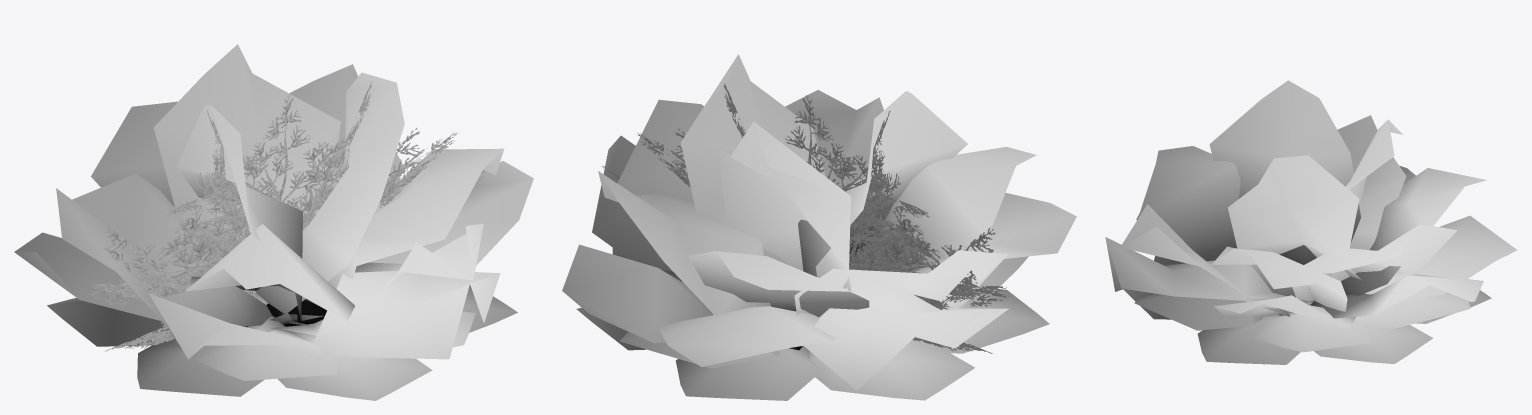
The model's file is Juniper.fbx.
3 renders of one model, left to right at view 1: azimuth 30°, elevation 25°; view 2: azimuth 150°, elevation 25°; view 3: azimuth 270°, elevation 25°, orthographic. The views are drawn at different scales.
Visible parts, largest first — view 1: Juniper_LOD0, Juniper_Billboard; view 2: Juniper_LOD0, Juniper_Billboard; view 3: Juniper_LOD0.
Part boxes in pixels (left/top/right/bottom): Juniper_LOD0: left=14, top=44, right=533, bottom=400; Juniper_Billboard: left=88, top=81, right=485, bottom=351; Juniper_LOD0: left=562, top=54, right=1076, bottom=400; Juniper_Billboard: left=602, top=83, right=1010, bottom=353; Juniper_LOD0: left=1105, top=80, right=1517, bottom=364.
Size of what is drawn, in the model's own units: 257 by 240 by 147.
